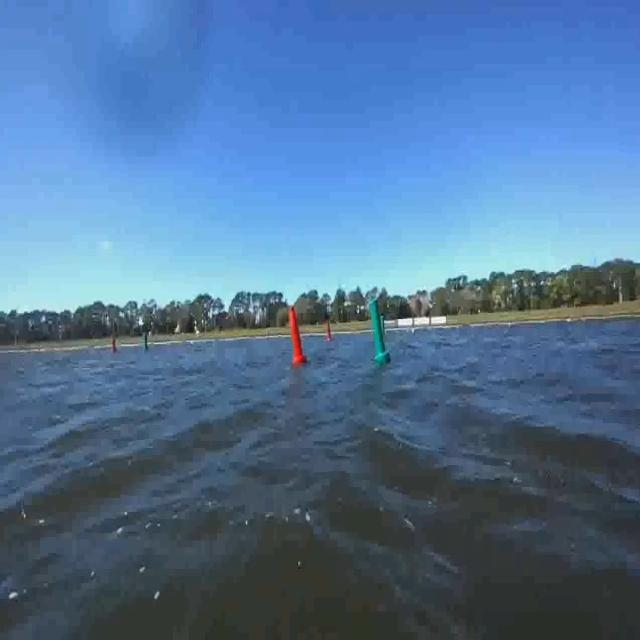green-column-buoy: (369, 299, 392, 364)
red-column-buoy: (287, 306, 306, 366), (328, 323, 336, 344)
